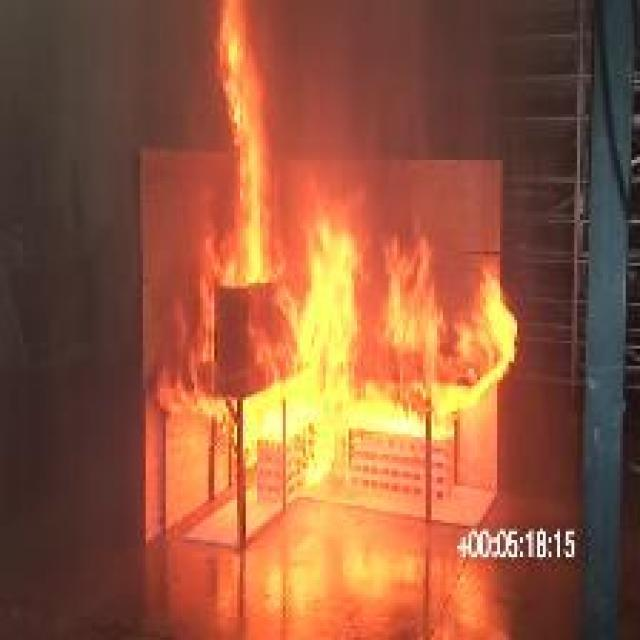Fire: (152, 214, 518, 486), (202, 2, 282, 284)
